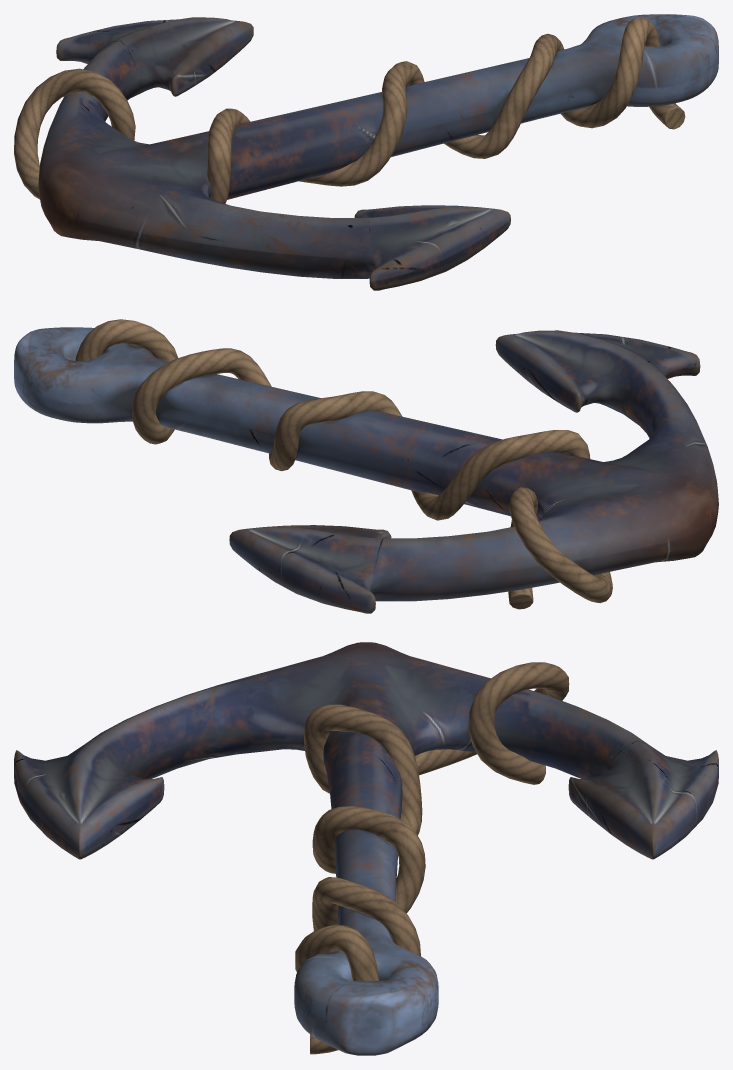
Rendered from SM_Anchor.fbx.
The picture shows the model from 3 angles, top to bottom: view 1: azimuth 30°, elevation 25°; view 2: azimuth 150°, elevation 25°; view 3: azimuth 270°, elevation 25°; orthographic projection. The views are drawn at different scales.
Visible parts, largest first — view 1: SM_Anchor_LOD0; view 2: SM_Anchor_LOD0; view 3: SM_Anchor_LOD0.
Part boxes in pixels (x1=…): SM_Anchor_LOD0: x1=14, y1=14, x2=718, y2=290; SM_Anchor_LOD0: x1=14, y1=319, x2=718, y2=613; SM_Anchor_LOD0: x1=14, y1=642, x2=718, y2=1055.
Size of the model in its own units: 150 by 125 by 23.79.
1 material, 1 textured.
